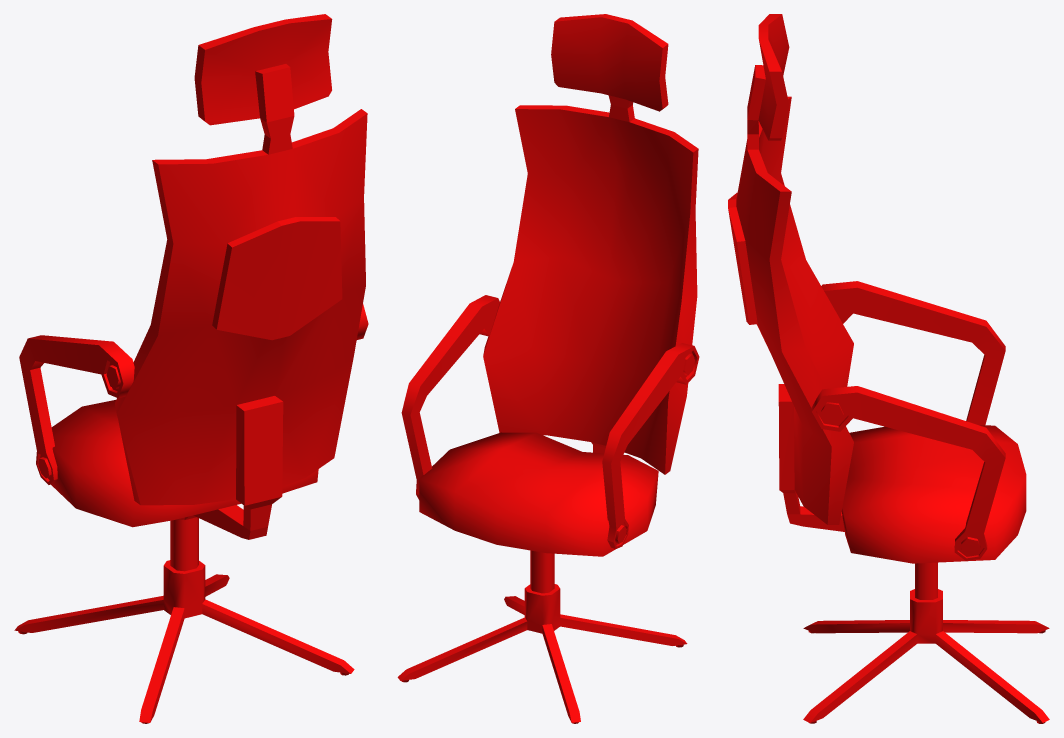
File: Silla.FBX
3 views of the same model, side by side, from view 1: azimuth 30°, elevation 25°; view 2: azimuth 150°, elevation 25°; view 3: azimuth 270°, elevation 25° (orthographic). The views are drawn at different scales.
Visible parts, largest first — view 1: SillaBase_LP; view 2: SillaBase_LP; view 3: SillaBase_LP.
Part boxes in pixels (bbox=[...]): SillaBase_LP: bbox=[14, 14, 368, 723]; SillaBase_LP: bbox=[397, 14, 699, 723]; SillaBase_LP: bbox=[728, 14, 1049, 723].
Size of the model in its own units: 148 by 395 by 178.
